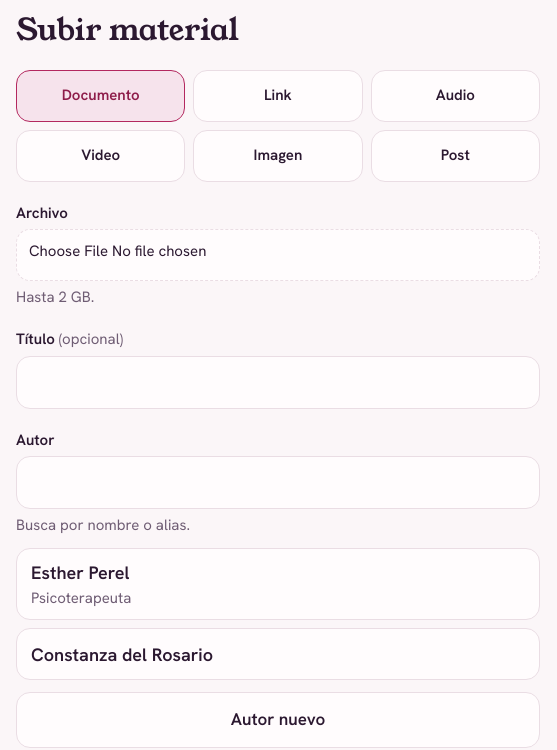
FormularioSubida: tipos › offers a reference link for Video
Click the radio button labelled "Video" at (101, 156), box [16,130,185,182]
(page scrolled)
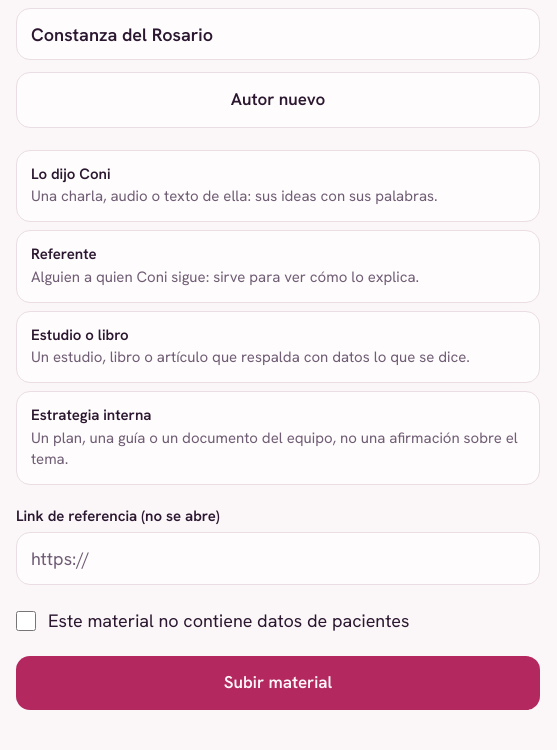
Now the field labelled "Link de referencia (no se abre)" is shown, box [16,532,540,585]
